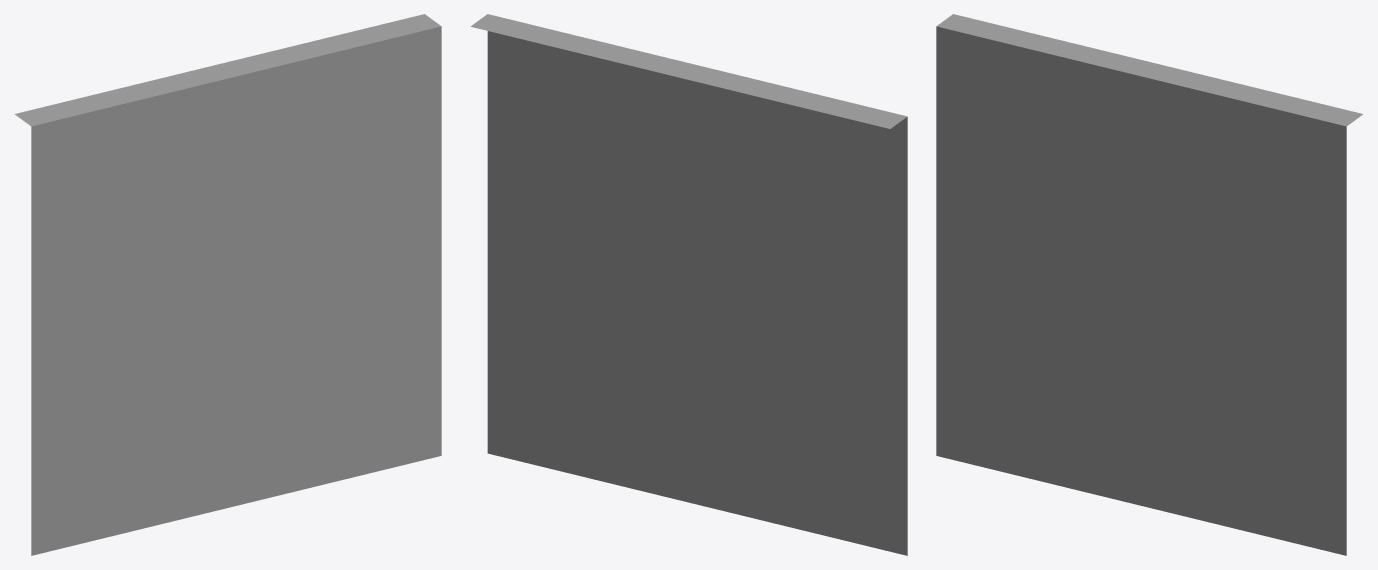
File: M_Wall350White60.fbx
3 views of the same model, side by side, from view 1: azimuth 30°, elevation 25°; view 2: azimuth 150°, elevation 25°; view 3: azimuth 330°, elevation 25° (orthographic). The views are drawn at different scales.
Parts seen in each view (by area): view 1: M_Wall350White60; view 2: M_Wall350White60; view 3: M_Wall350White60.
Boxes of the visible parts, x1,y1,x2,y2 form: M_Wall350White60: (14, 14, 441, 555); M_Wall350White60: (471, 14, 907, 555); M_Wall350White60: (936, 14, 1363, 555).
Bounding box in the file's own units: 350 × 25 × 350.
